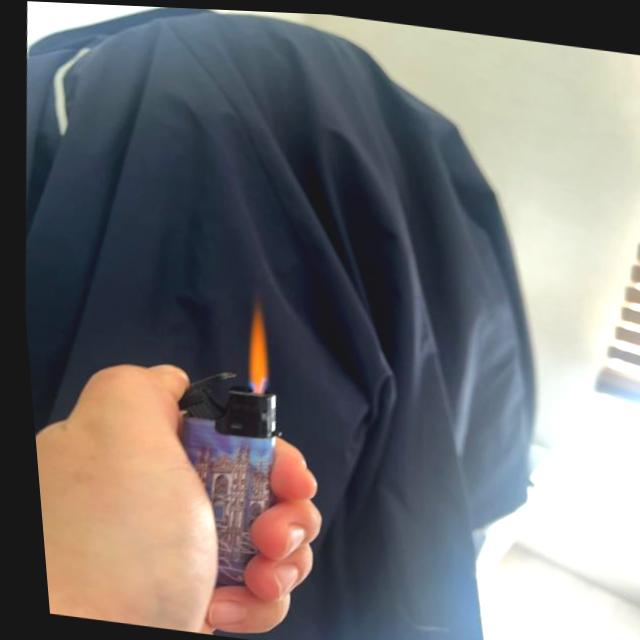helmet: (234, 295, 271, 388)
